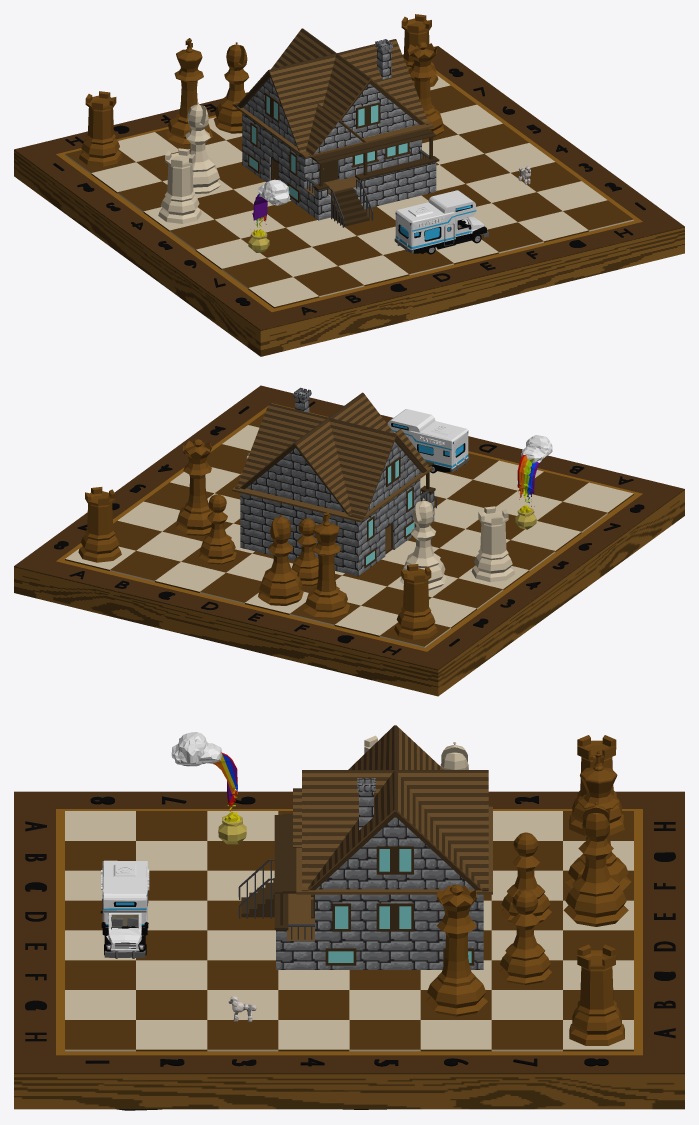
The picture shows the model from 3 angles, top to bottom: view 1: azimuth 30°, elevation 25°; view 2: azimuth 150°, elevation 25°; view 3: azimuth 270°, elevation 25°; orthographic projection. The views are drawn at different scales.
Parts seen in each view (by area): view 1: Cube.002, Cube.586, VEHICLES_CAMPER, OBJRANDOM_RAINBOW; view 2: Cube.002, Cube.586, VEHICLES_CAMPER, OBJRANDOM_RAINBOW; view 3: Cube.002, Cube.586, VEHICLES_CAMPER, OBJRANDOM_RAINBOW.
Part boxes in pixels (x1,y1,x2,y2): Cube.002: (14,14,684,356); Cube.586: (232,28,439,227); VEHICLES_CAMPER: (394,190,488,254); OBJRANDOM_RAINBOW: (248,179,290,252); Cube.002: (14,385,684,696); Cube.586: (232,387,436,576); VEHICLES_CAMPER: (387,409,469,473); OBJRANDOM_RAINBOW: (515,435,552,529); Cube.002: (14,735,684,1109); Cube.586: (238,725,492,969); VEHICLES_CAMPER: (100,860,149,958); OBJRANDOM_RAINBOW: (171,732,246,844).
Bounding box in the file's own units: 3981 × 1467 × 4012.
35 materials, 3 textured.
